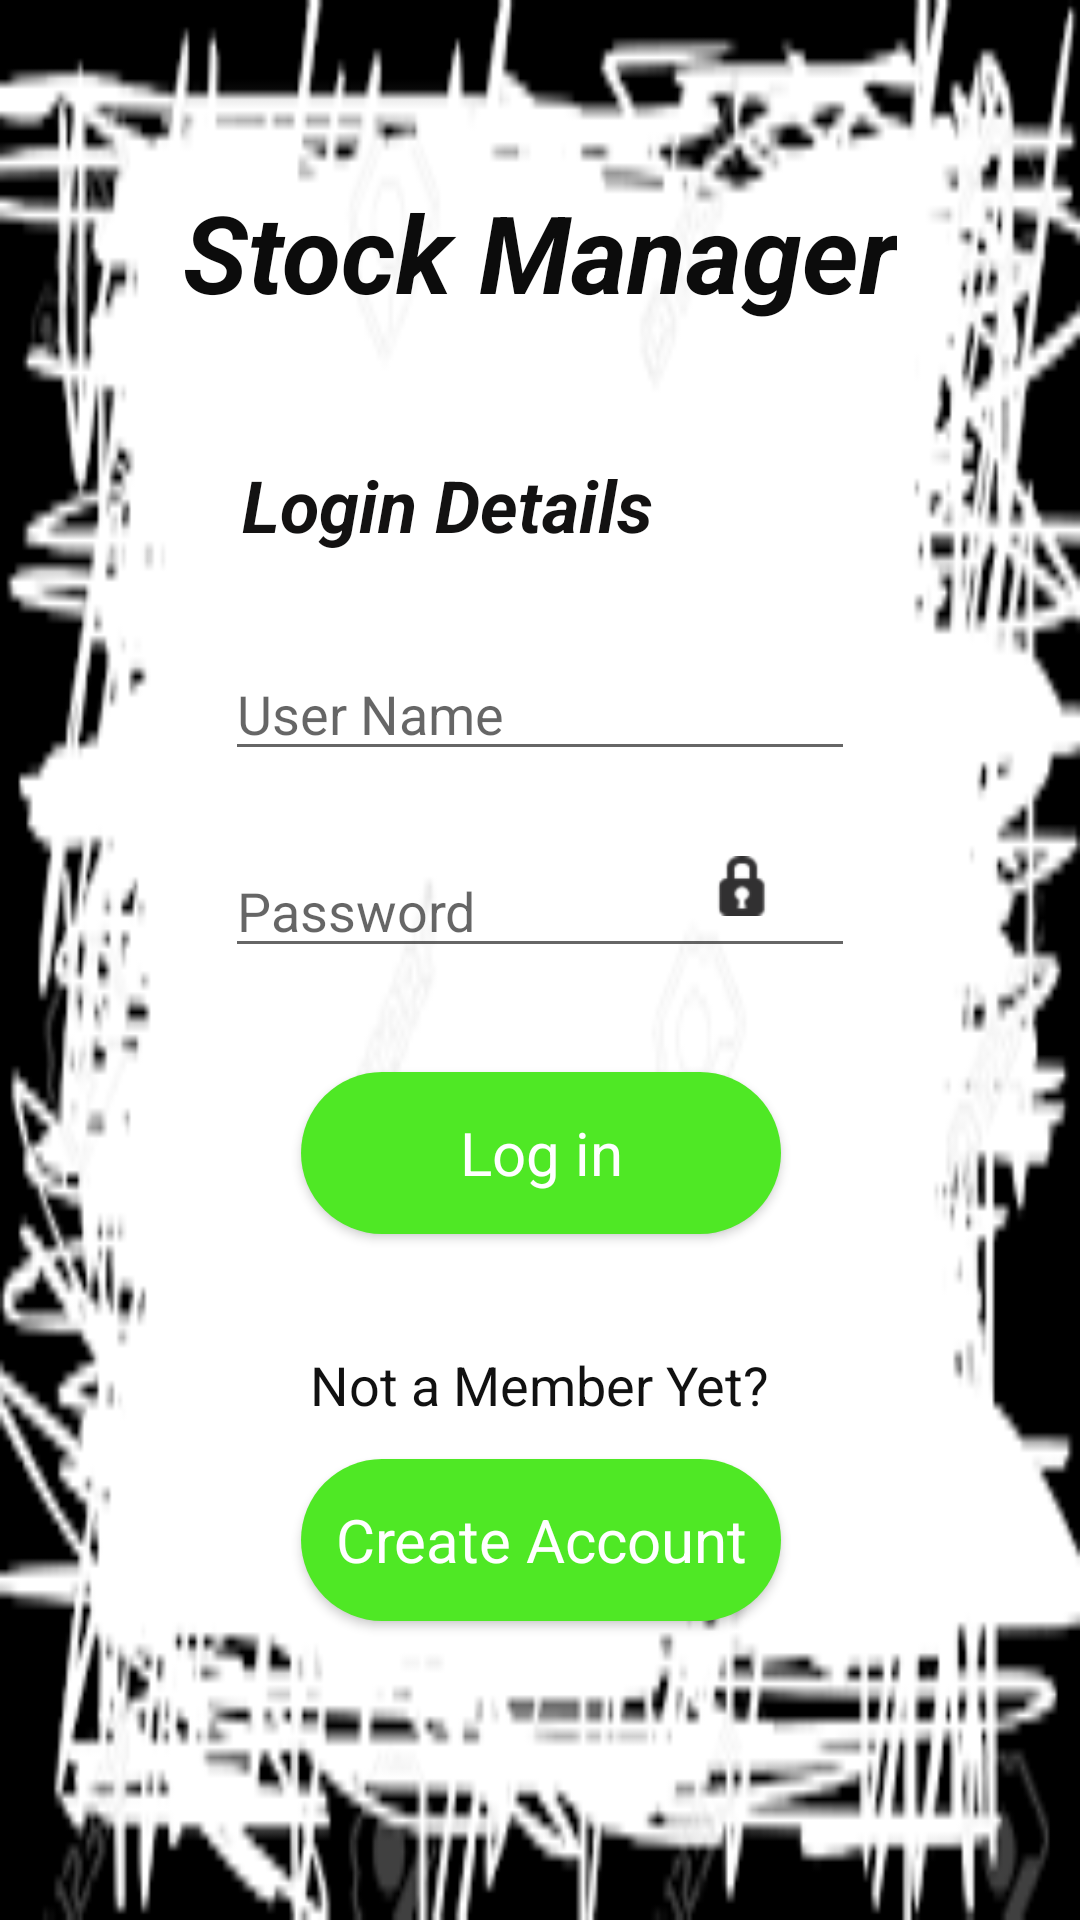

Screen size 1080 × 1920. Icon name, then its box in pixels as box=[x1, y1, x2, y2]:
secure: box=[718, 856, 765, 916]
